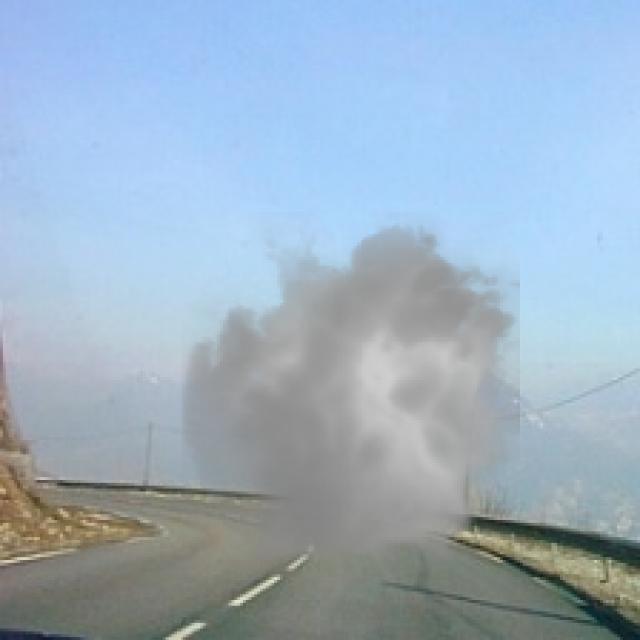Smoke: (168, 211, 538, 583)
